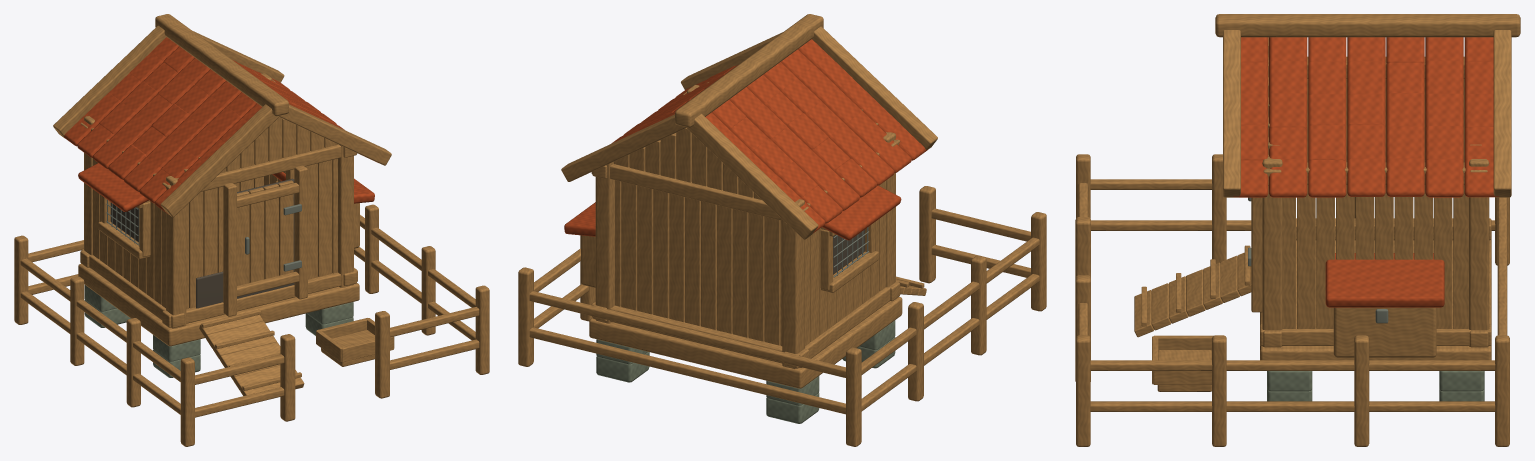
The model's file is chicken_coop.glb.
3 views of the same model, side by side, from view 1: azimuth 30°, elevation 25°; view 2: azimuth 150°, elevation 25°; view 3: azimuth 270°, elevation 25° (orthographic). The views are drawn at different scales.
Visible parts, largest first — view 1: DetailsMesh, RoofMesh, FrameMesh, WallsMesh, FoundationMesh; view 2: RoofMesh, WallsMesh, FrameMesh, DetailsMesh, FoundationMesh; view 3: RoofMesh, DetailsMesh, FrameMesh, WallsMesh, FoundationMesh.
Part boxes in pixels (left/top/right/bottom): DetailsMesh: left=20, top=163, right=479, bottom=417; RoofMesh: left=53, top=14, right=391, bottom=217; FrameMesh: left=14, top=73, right=489, bottom=446; WallsMesh: left=93, top=72, right=337, bottom=309; FoundationMesh: left=84, top=285, right=353, bottom=377; RoofMesh: left=561, top=14, right=937, bottom=239; WallsMesh: left=614, top=82, right=885, bottom=345; FrameMesh: left=518, top=85, right=1046, bottom=446; DetailsMesh: left=529, top=185, right=1039, bottom=414; FoundationMesh: left=596, top=320, right=895, bottom=423; RoofMesh: left=1215, top=14, right=1520, bottom=197; DetailsMesh: left=1078, top=179, right=1507, bottom=411; FrameMesh: left=1075, top=56, right=1509, bottom=446; WallsMesh: left=1268, top=37, right=1481, bottom=328; FoundationMesh: left=1267, top=371, right=1484, bottom=401.
Size of the model in its own units: 2.84 by 2.39 by 2.85.
6 materials, 3 textured.
